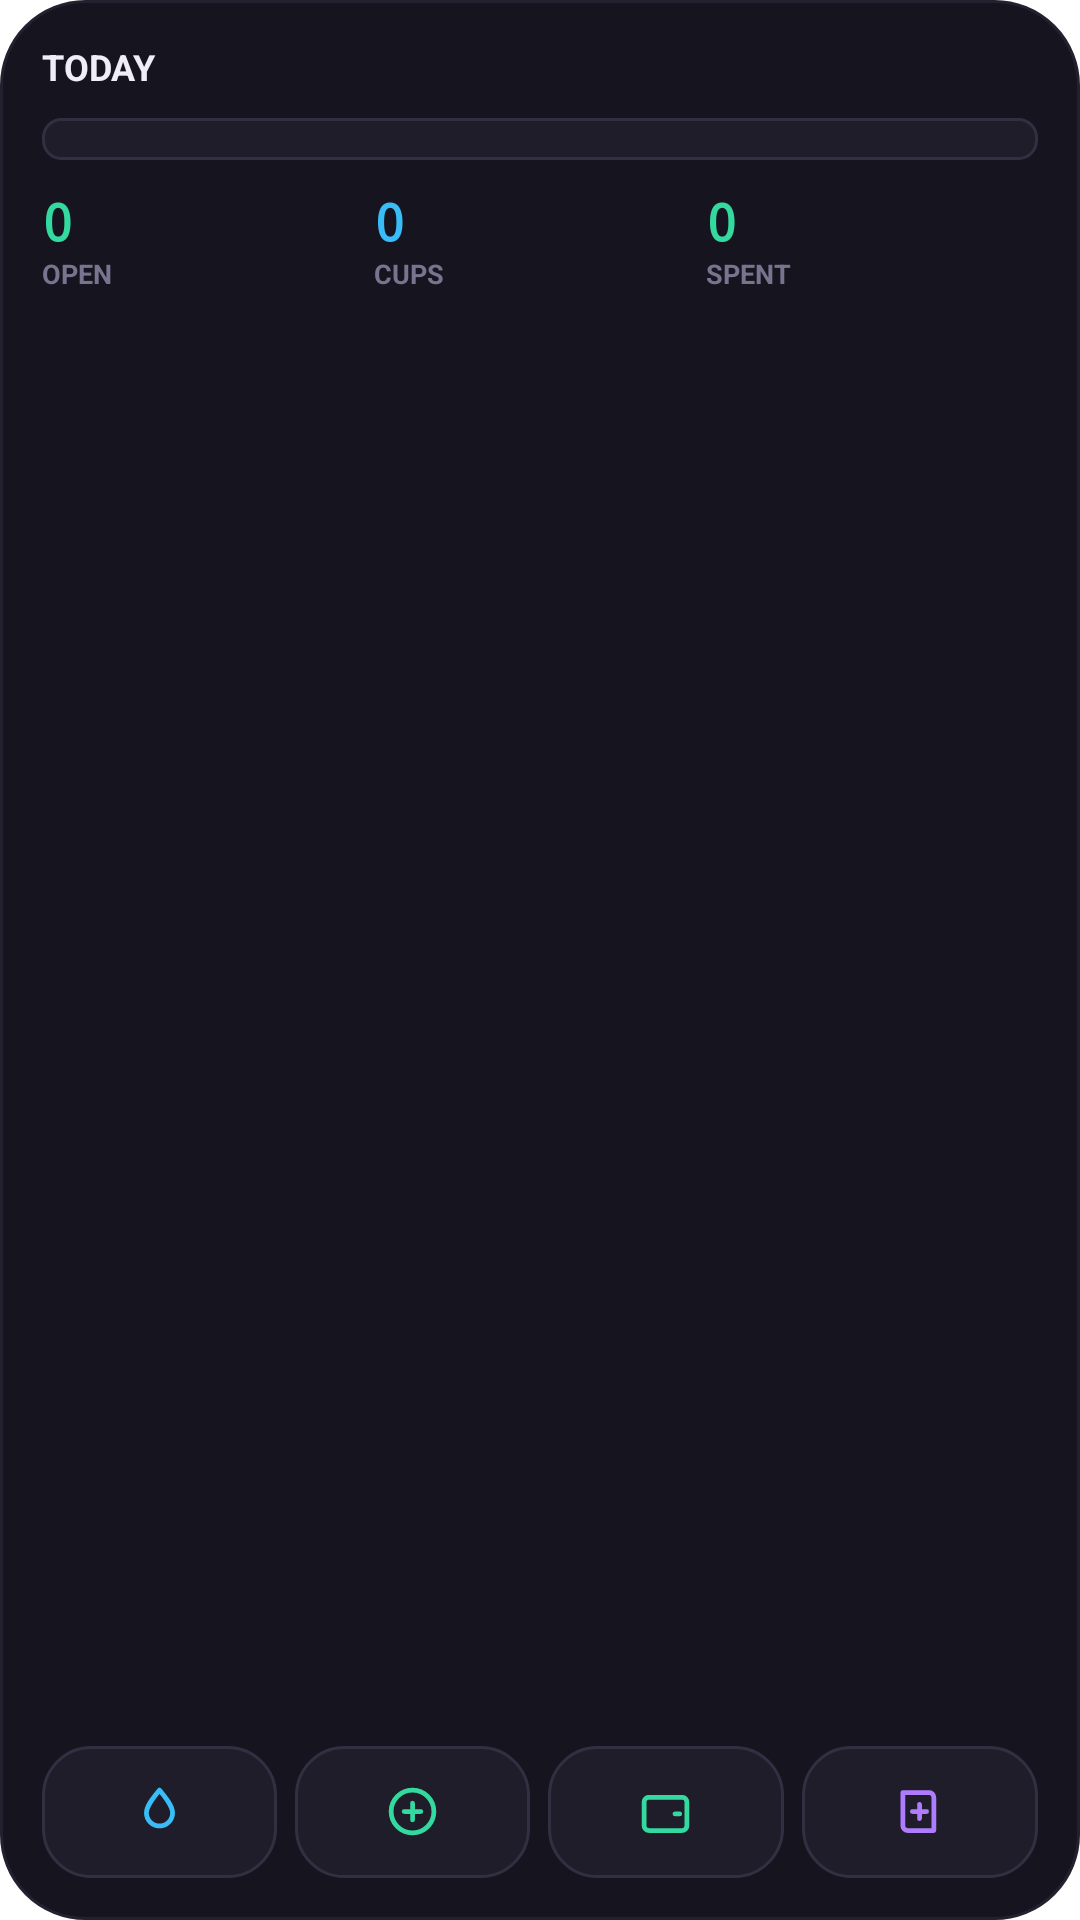

Screen size 1080 × 1920. Icon name, then its box in pixels as (x1, y1, x2, y2):
drop: (144, 1787, 175, 1829)
money: (641, 1795, 690, 1833)
note: (900, 1790, 937, 1833)
